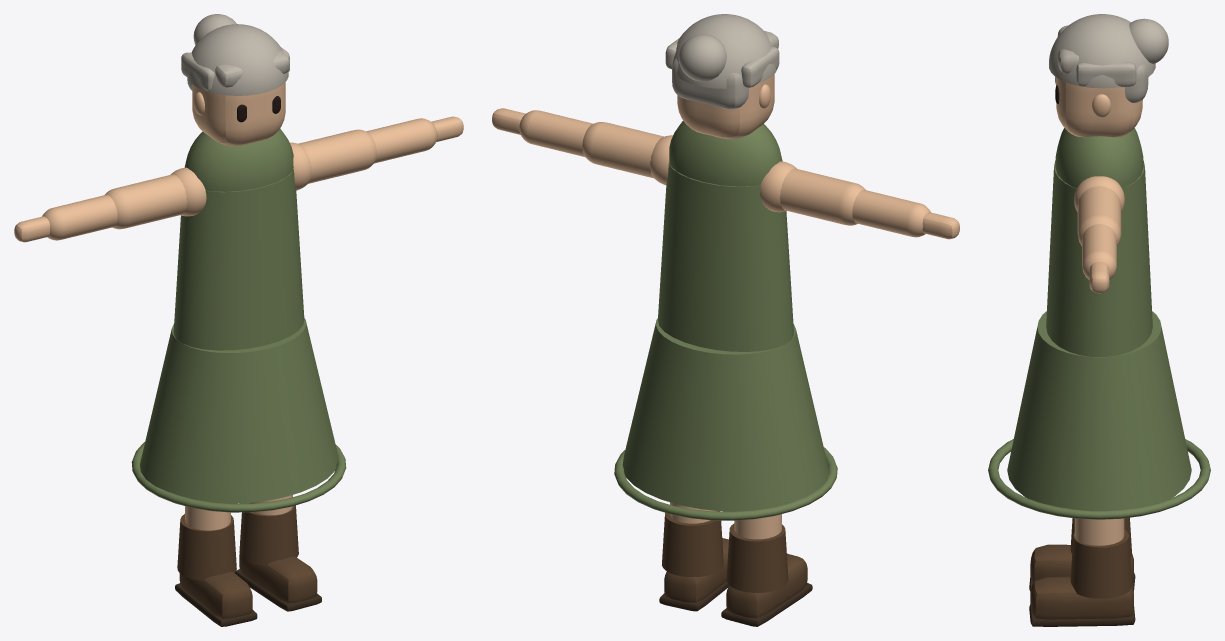
The model's file is rosa.glb.
3 views of the same model, side by side, from view 1: azimuth 30°, elevation 25°; view 2: azimuth 150°, elevation 25°; view 3: azimuth 270°, elevation 25° (orthographic). The views are drawn at different scales.
Parts seen in each view (by area): view 1: rosa_dress_skirt, rosa_dress_bodice, rosa_top_shoulders, rosa_hair_cap, rosa_head, rosa_upperarm_l, rosa_boot_shaft_l, rosa_boot_shaft_r, rosa_upperarm_r, rosa_boot_r, rosa_dress_hem, rosa_boot_l (+10 smaller); view 2: rosa_dress_skirt, rosa_dress_bodice, rosa_top_shoulders, rosa_hair_cap, rosa_boot_shaft_l, rosa_upperarm_l, rosa_boot_shaft_r, rosa_head, rosa_upperarm_r, rosa_dress_hem, rosa_forearm_l, rosa_forearm_r (+10 smaller); view 3: rosa_dress_skirt, rosa_dress_bodice, rosa_hair_cap, rosa_top_shoulders, rosa_head, rosa_boot_shaft_r, rosa_boot_r, rosa_dress_hem, rosa_upperarm_r, rosa_forearm_r, rosa_boot_l, rosa_bun (+8 smaller).
Boxes of the visible parts, x1,y1,x2,y2 form: rosa_dress_skirt: (140,318,337,503); rosa_dress_bodice: (173,169,304,350); rosa_top_shoulders: (184,128,293,191); rosa_hair_cap: (187,24,288,95); rosa_head: (192,82,285,146); rosa_upperarm_l: (104,174,187,229); rosa_boot_shaft_l: (177,514,236,580); rosa_boot_shaft_r: (239,503,298,565); rosa_upperarm_r: (298,129,376,183); rosa_boot_r: (239,554,317,602); rosa_dress_hem: (131,442,346,512); rosa_boot_l: (179,572,252,618); rosa_dress_skirt: (622,318,829,511); rosa_dress_bodice: (658,163,793,351); rosa_top_shoulders: (669,121,782,186); rosa_hair_cap: (671,14,776,88); rosa_boot_shaft_l: (726,523,788,592); rosa_upperarm_l: (780,168,865,225); rosa_boot_shaft_r: (662,511,723,577); rosa_head: (677,74,774,139); rosa_upperarm_r: (582,122,663,178); rosa_dress_hem: (614,447,837,520); rosa_forearm_l: (852,190,930,237); rosa_forearm_r: (519,110,593,157); rosa_dress_skirt: (1007,311,1191,511); rosa_dress_bodice: (1046,160,1152,356); rosa_hair_cap: (1049,14,1155,88); rosa_top_shoulders: (1055,128,1143,188); rosa_head: (1056,77,1142,137); rosa_boot_shaft_r: (1070,529,1131,598); rosa_boot_r: (1030,576,1133,619); rosa_dress_hem: (988,439,1210,519); rosa_upperarm_r: (1077,186,1121,245); rosa_forearm_r: (1082,224,1116,279); rosa_boot_l: (1030,544,1133,583); rosa_bun: (1129,18,1168,64).
Size of the model in its own units: 1.44 by 1.74 by 0.6026.
